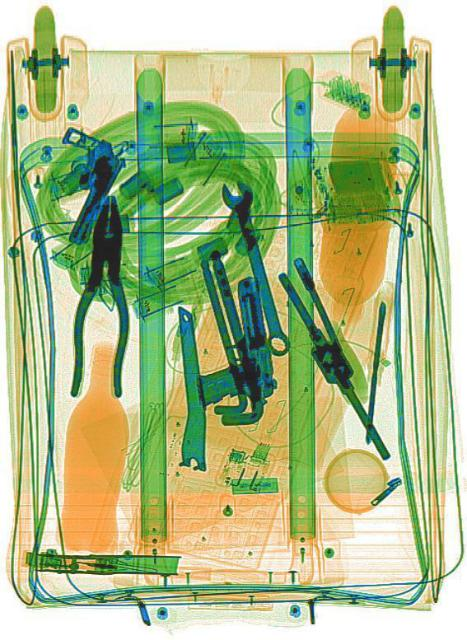Gun: (181, 273, 276, 419), (27, 114, 128, 250)
Pliers: (67, 192, 134, 398)
Wrench: (217, 173, 296, 361)
